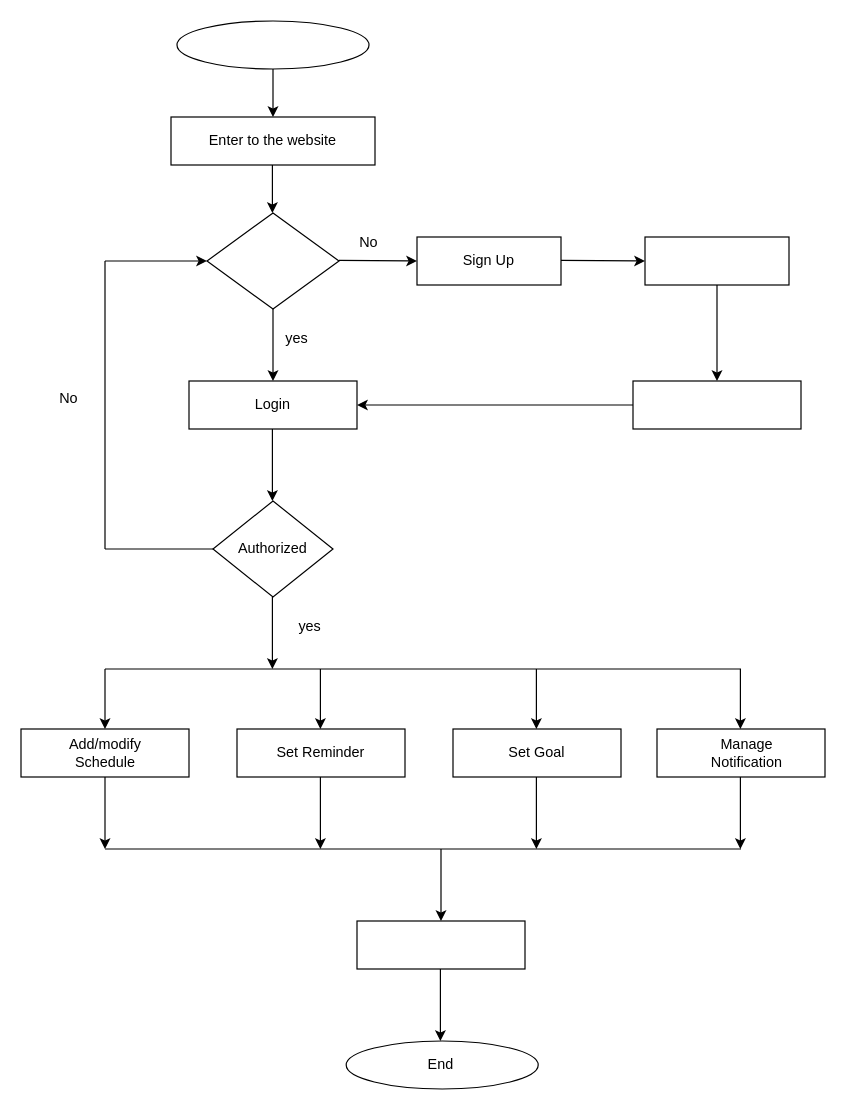
Image size: 846x1110. Some labels were removed from this diagram. Each missing label, with the box of its shape:
Fill the information: (644, 236, 789, 285)
have an account ?: (206, 212, 339, 309)
Logout: (356, 920, 525, 969)
Start: (176, 20, 369, 69)
Submit: (632, 380, 801, 429)
